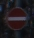No entry: (5, 5, 29, 33)
